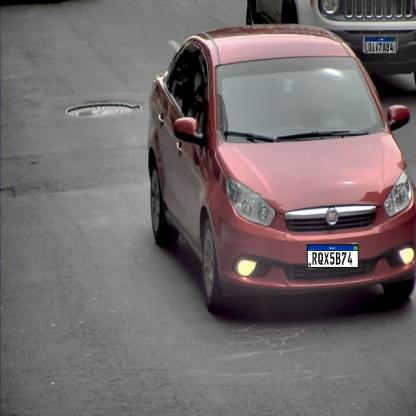PlacaM: (307, 244, 359, 268), (365, 37, 397, 54)
